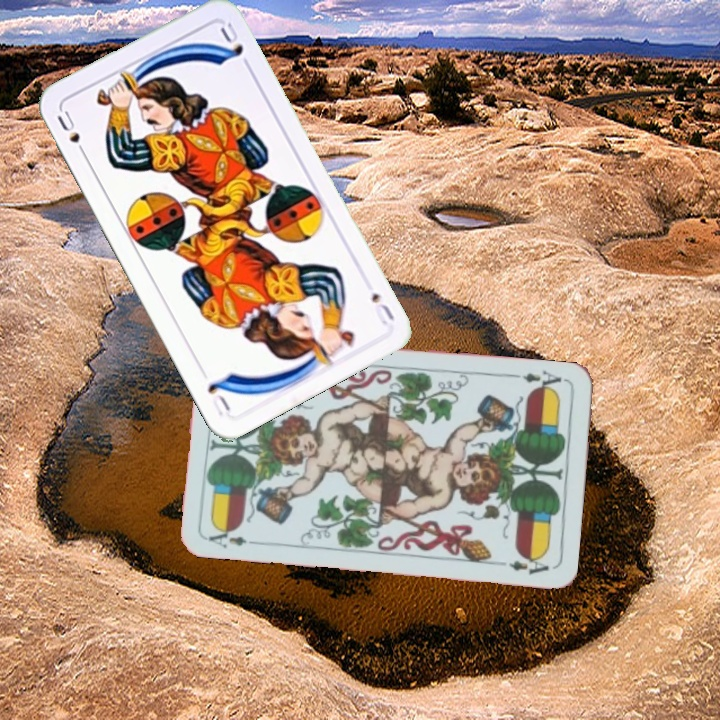EA: (204, 523, 263, 551), (518, 366, 564, 395)
SU: (53, 106, 91, 161), (367, 288, 397, 328)
